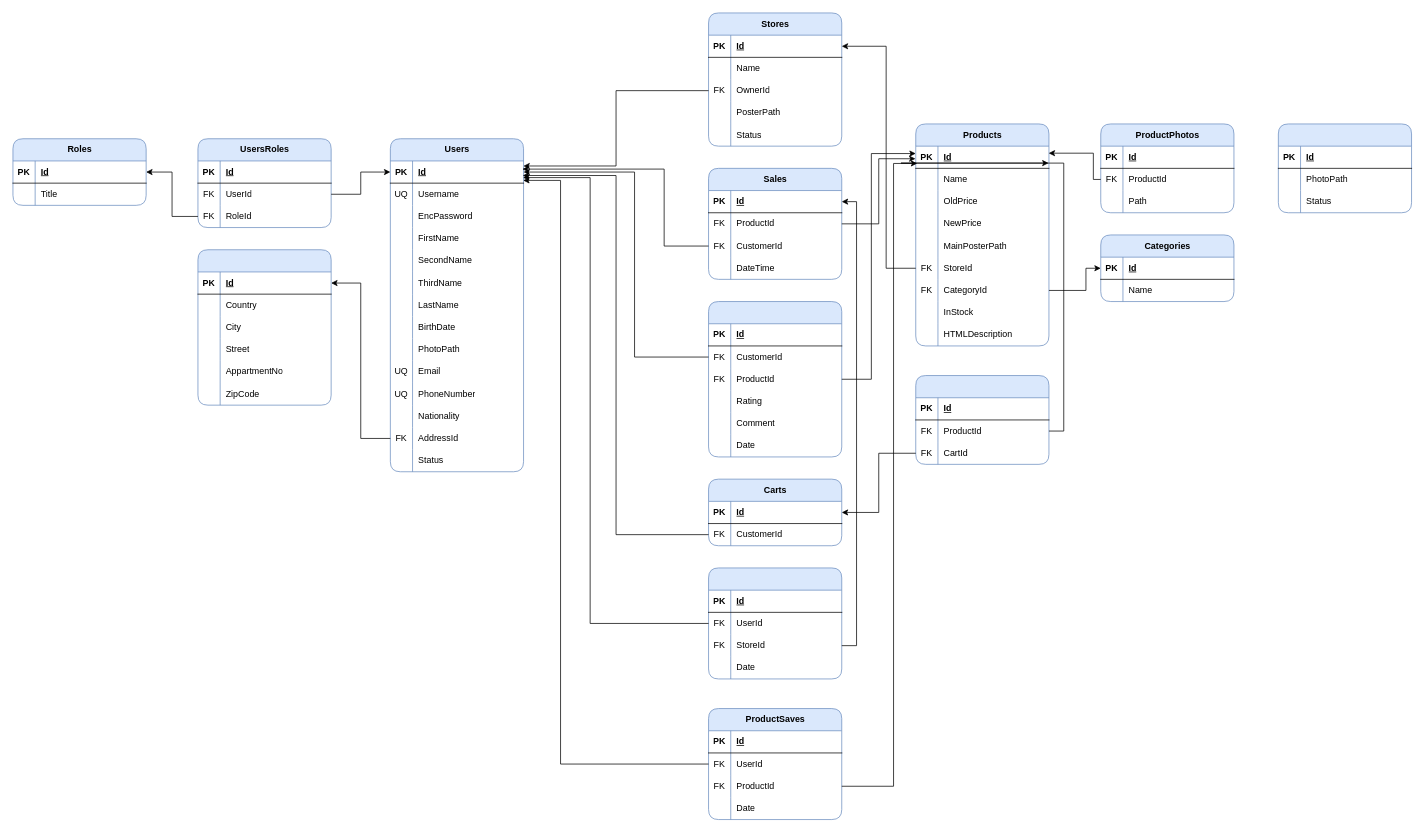
This 1425x833 diagram has some shape labels left out. The box of each missing label's shape, as (x1, y1, x2, y2) in pixels:
Addresses: (197, 249, 331, 405)
Banners: (1278, 123, 1412, 213)
ProductsCarts: (915, 375, 1049, 464)
ProductsReviews: (708, 301, 842, 457)
StoreSaves: (708, 567, 842, 679)
